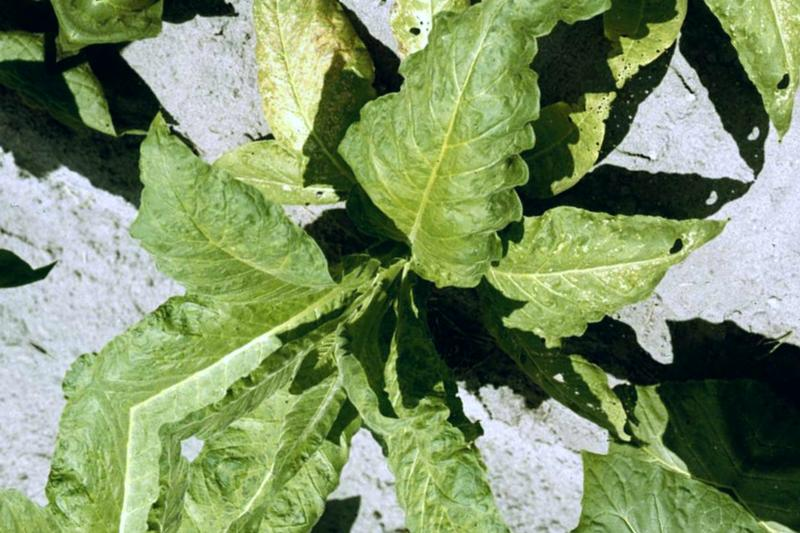Tomato leaf mosaic virus: (299, 0, 615, 308), (282, 298, 659, 533), (458, 148, 711, 413), (86, 106, 352, 338)
